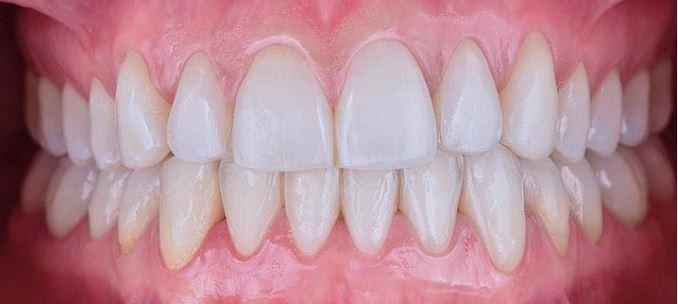1st Molar: (44, 161, 97, 237), (595, 155, 649, 225), (624, 67, 652, 149), (37, 75, 63, 149)
1st Premolar: (526, 159, 572, 258), (558, 58, 590, 167), (119, 166, 158, 250), (89, 77, 117, 172)
2nd Molar: (642, 137, 675, 199), (23, 151, 55, 210), (651, 55, 672, 132), (24, 70, 43, 143)
2nd Premolar: (561, 160, 603, 246), (590, 65, 622, 156), (88, 171, 128, 242), (63, 82, 89, 166)
Canine: (466, 144, 528, 275), (159, 154, 219, 275), (506, 24, 558, 160), (115, 46, 165, 169)
Central Incisor: (334, 36, 438, 169), (230, 37, 334, 170), (339, 166, 401, 263), (282, 165, 337, 264)
Lateral Incisor: (439, 32, 504, 155), (399, 153, 466, 263), (167, 46, 228, 162), (218, 162, 282, 263)
